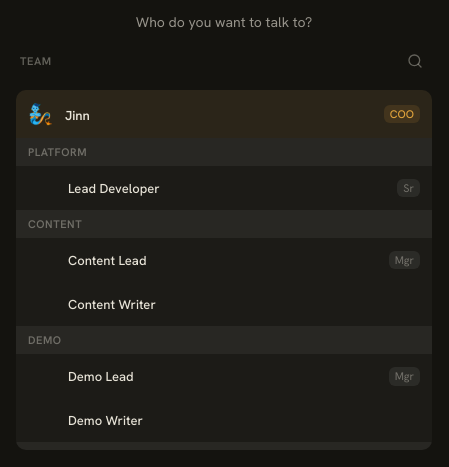
Test: ChatEmployeePicker › filters employees by name once the search is revealed
The image size is (449, 467).
Click the button named "search employees": (415, 61) x1=398 y1=44 x2=432 y2=78
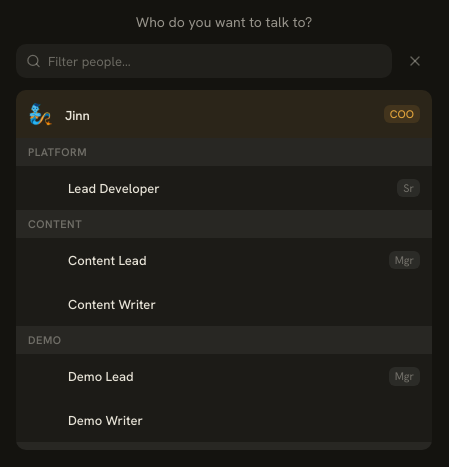
In the field with placeholder "Filter people…": (204, 61) x1=16 y1=44 x2=392 y2=78, type "developer"
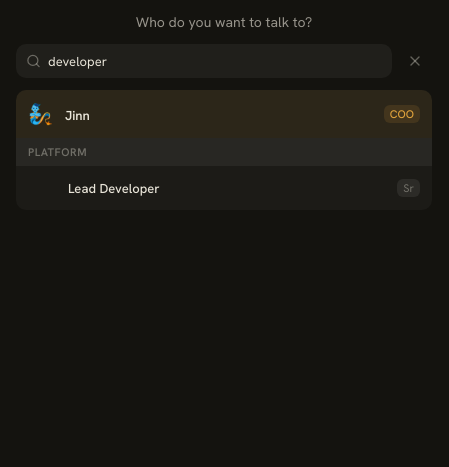
Check: the text "Lead Developer" is shown, box x1=68 y1=180 x2=160 y2=197
Check: the option "Content Lead" is gone
Check: the option "Demo Lead" is gone
